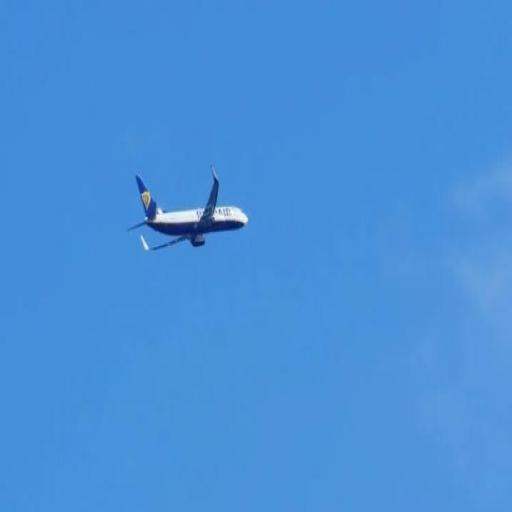aircraft: (124, 159, 250, 260)
